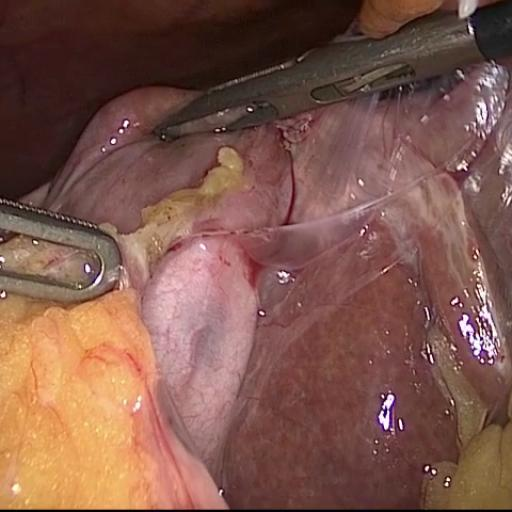Grasper: (111, 28, 512, 166), (0, 153, 151, 349)
